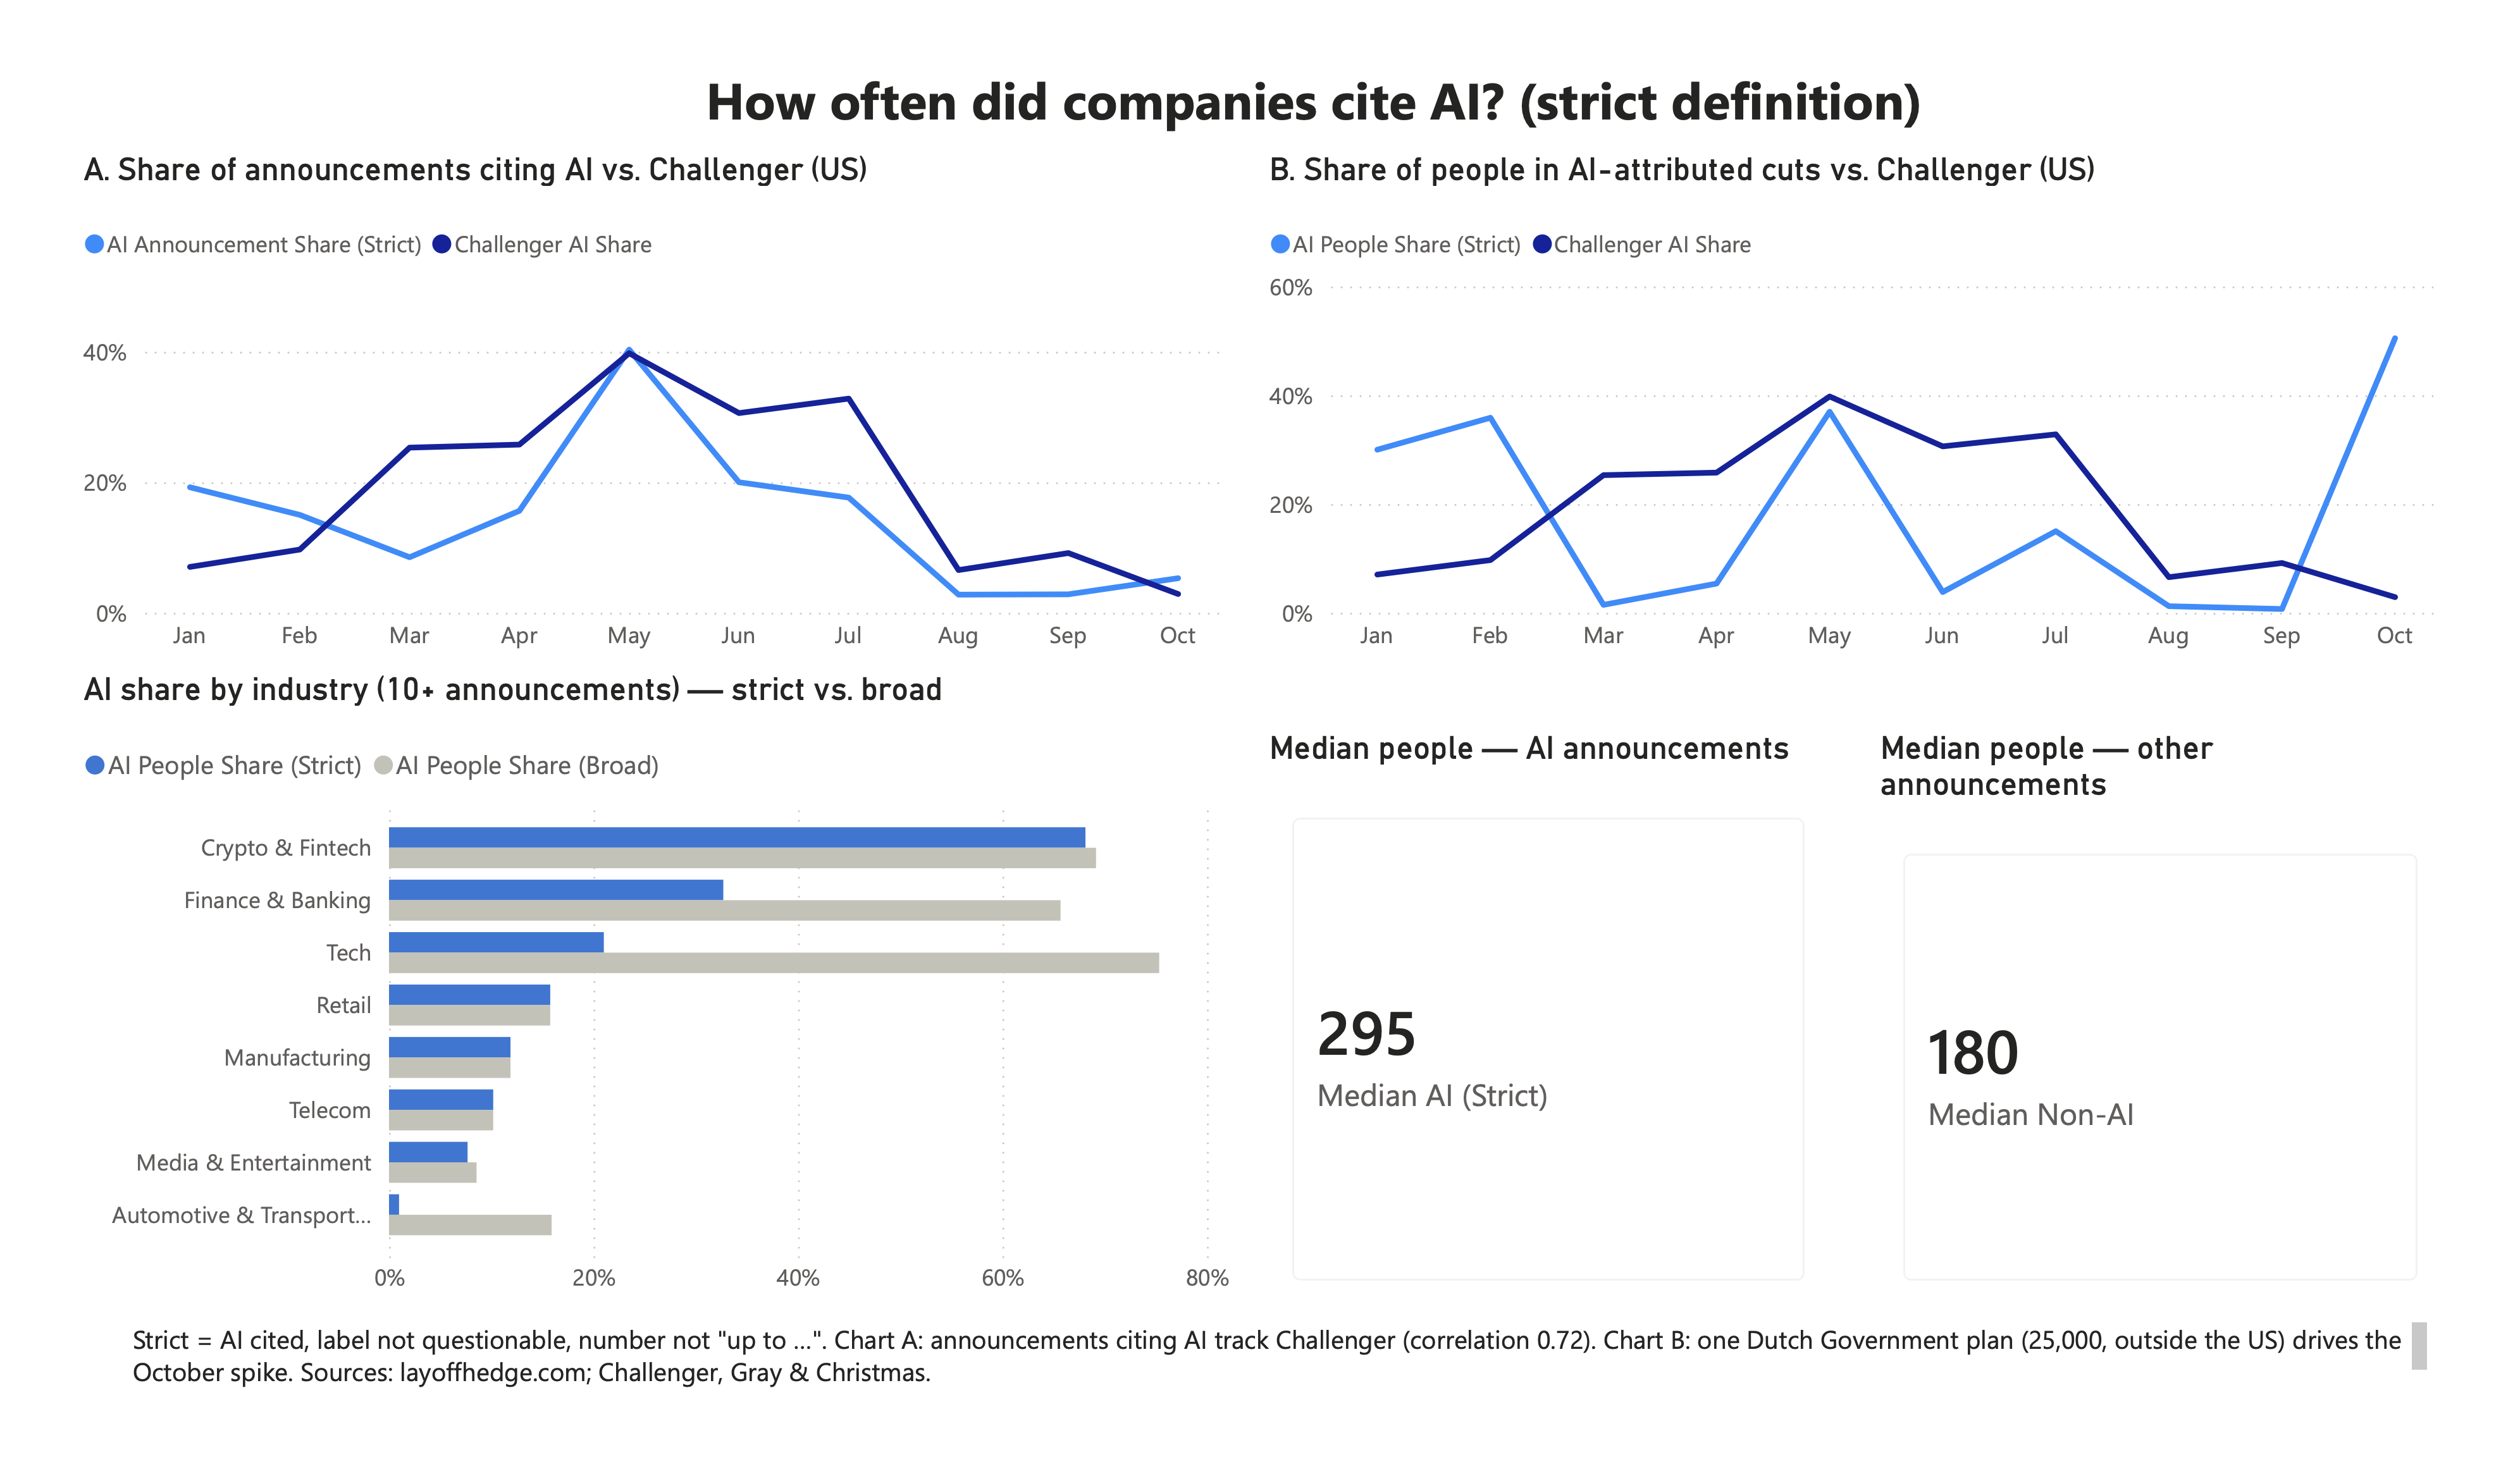

The dashboard page shown, as its layout file describes it:
{"tool":"powerbi","page":{"name":"AI Narrative","canvas":[1280,720],"ordinal":1},"visuals":[{"type":"textbox","box":[343.5,5.5,661.9,49.3],"z":0},{"type":"lineChart","title":"A. Share of announcements citing AI vs. Challenger (US)","fields":{"Category":["dim_date.month_short"],"Y":["_Measures.AI Announcement Share (Strict)","_Measures.Challenger AI Share"]},"box":[14.9,54.8,610.3,274.6],"z":1000},{"type":"lineChart","title":"B. Share of people in AI-attributed cuts vs. Challenger (US)","fields":{"Y":["_Measures.AI People Share (Strict)","_Measures.Challenger AI Share"],"Category":["dim_date.month_short"]},"box":[640,54.8,626.7,274.6],"z":2000},{"type":"clusteredBarChart","title":"AI share by industry (10+ announcements) — strict vs. broad","fields":{"Category":["dim_industry.industry_name"],"Y":["_Measures.AI People Share (Strict)","_Measures.AI People Share (Broad)"]},"box":[14.9,329.4,614.2,338.8],"z":3000},{"type":"cardVisual","title":"Median people — AI announcements","fields":{"Data":["_Measures.Median AI (Strict)"]},"box":[640,359.9,304.4,308.3],"z":4000},{"type":"cardVisual","title":"Median people — other announcements","fields":{"Data":["_Measures.Median Non-AI"]},"box":[961.6,359.9,305.1,308.3],"z":5000},{"type":"textbox","box":[40.7,668.2,1219,45.4],"z":6000}]}

Visuals, with their boxes in screenshot pixels (x1, y1, x2, y2), scaled from the page's 1280x720 canvas onto the 2520x1457 screenshot:
textbox: x1=676 y1=11 x2=1979 y2=111
"A. Share of announcements citing AI vs. Challenger (US)" lineChart: x1=29 y1=111 x2=1231 y2=667
"B. Share of people in AI-attributed cuts vs. Challenger (US)" lineChart: x1=1260 y1=111 x2=2494 y2=667
"AI share by industry (10+ announcements) — strict vs. broad" clusteredBarChart: x1=29 y1=667 x2=1238 y2=1352
"Median people — AI announcements" cardVisual: x1=1260 y1=728 x2=1859 y2=1352
"Median people — other announcements" cardVisual: x1=1893 y1=728 x2=2494 y2=1352
textbox: x1=80 y1=1352 x2=2480 y2=1444
